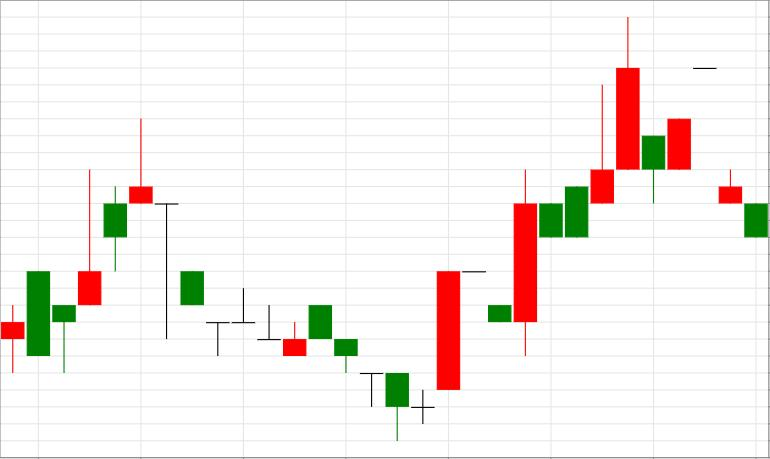morning_star_rise: (308, 271, 460, 441)
shooting_star_fall: (488, 85, 614, 356)
